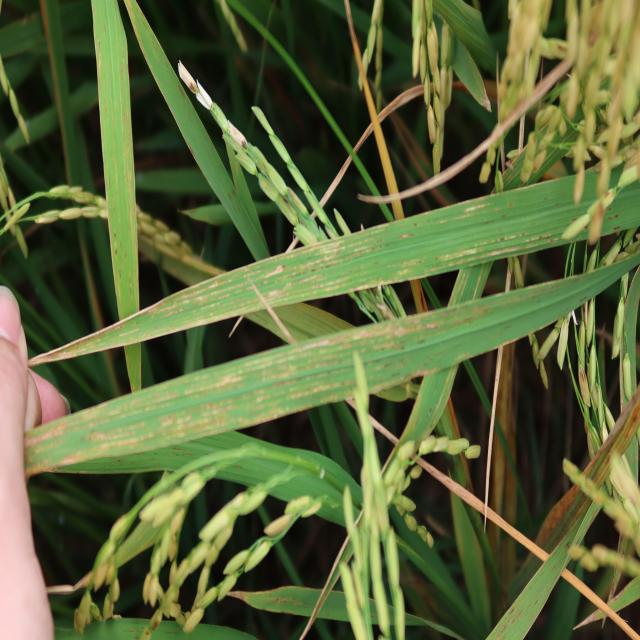Dom soc vi khuan: (30, 367, 352, 473), (59, 331, 349, 435), (349, 306, 486, 358), (143, 301, 265, 341), (264, 273, 319, 308), (301, 239, 346, 256), (395, 258, 424, 278), (50, 347, 88, 362), (438, 248, 477, 262), (481, 247, 517, 259), (261, 264, 283, 279), (464, 202, 494, 212), (182, 288, 206, 299), (208, 279, 227, 289), (193, 295, 203, 302), (182, 300, 189, 305)
